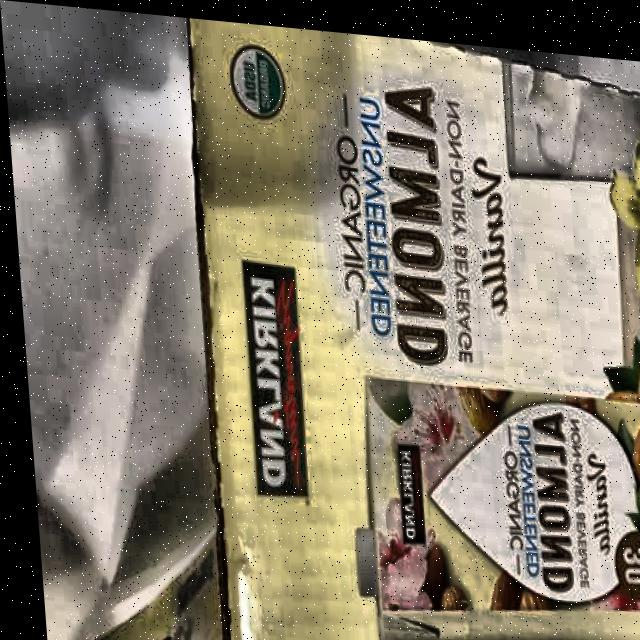cardboard: (180, 17, 640, 640)
